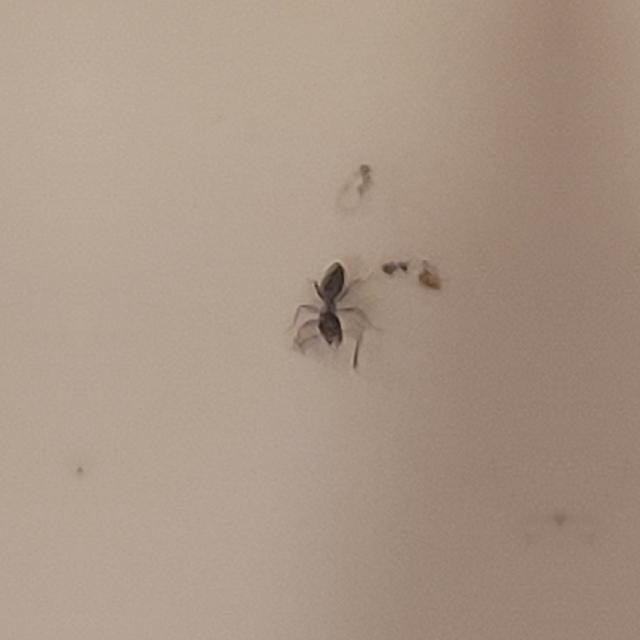Tapinoma: (292, 250, 368, 366)
